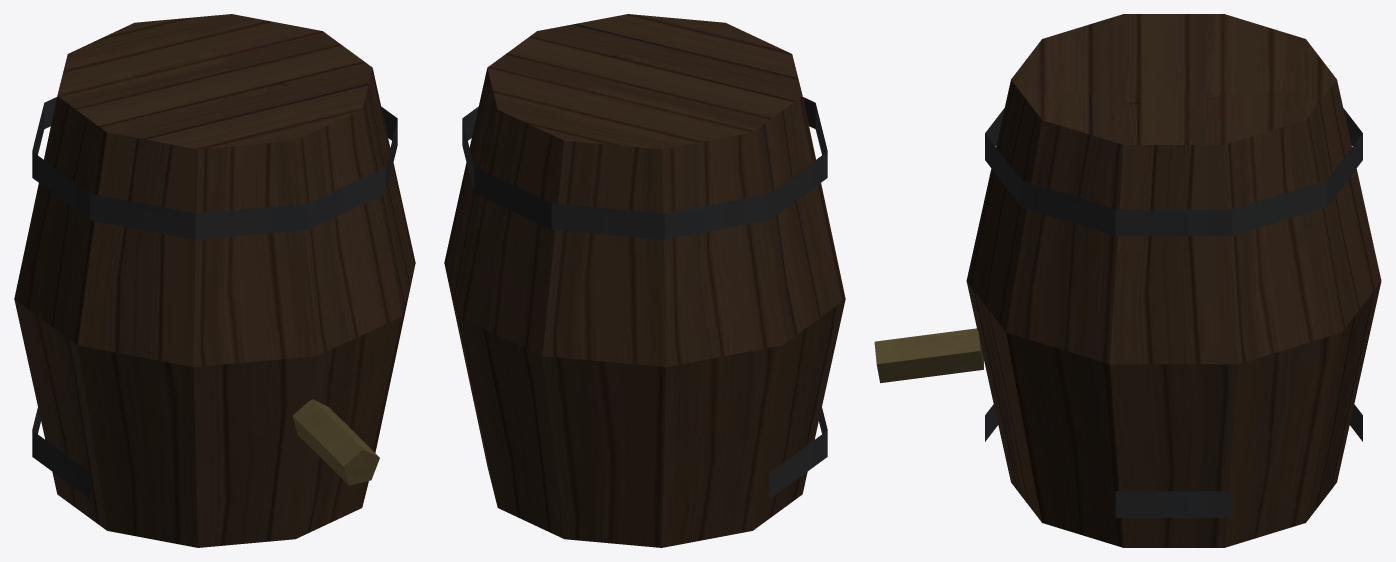
Rendered from keg_01.glb.
3 renders of one model, left to right at view 1: azimuth 30°, elevation 25°; view 2: azimuth 150°, elevation 25°; view 3: azimuth 270°, elevation 25°, orthographic.
Visible parts, largest first — view 1: keg_01; view 2: keg_01; view 3: keg_01.
Boxes of the visible parts, left/top/right/bottom form: keg_01: left=14, top=14, right=415, bottom=547; keg_01: left=444, top=14, right=845, bottom=547; keg_01: left=874, top=14, right=1381, bottom=547.
Size of the model in its own units: 0.5326 by 0.6 by 0.6842.
3 materials, 3 textured.
